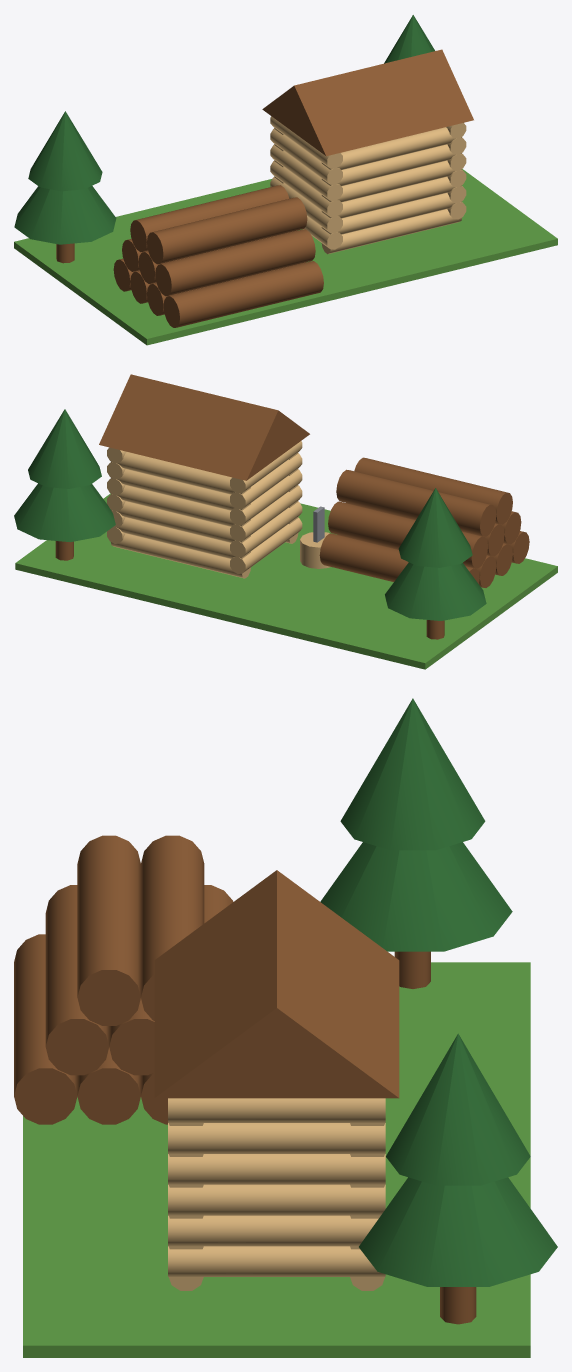
Rendered from lumber-camp.glb.
The picture shows the model from 3 angles, top to bottom: view 1: azimuth 30°, elevation 25°; view 2: azimuth 150°, elevation 25°; view 3: azimuth 270°, elevation 25°; orthographic projection. The views are drawn at different scales.
Parts seen in each view (by area): view 1: darkWood, grass, wood, pine; view 2: darkWood, grass, wood, pine, steel; view 3: darkWood, grass, pine, wood.
Boxes of the visible parts, <box> form: darkWood: <box>56,49,473,327</box>; grass: <box>14,169,557,345</box>; wood: <box>270,116,466,254</box>; pine: <box>14,15,434,244</box>; darkWood: <box>55,374,529,639</box>; grass: <box>15,493,557,669</box>; wood: <box>107,441,330,578</box>; pine: <box>14,409,486,620</box>; steel: <box>313,506,324,542</box>; darkWood: <box>14,835,476,1324</box>; grass: <box>23,962,530,1357</box>; pine: <box>320,698,557,1286</box>; wood: <box>168,1098,385,1290</box>.
Size of the model in its own units: 217 by 74 by 120.
